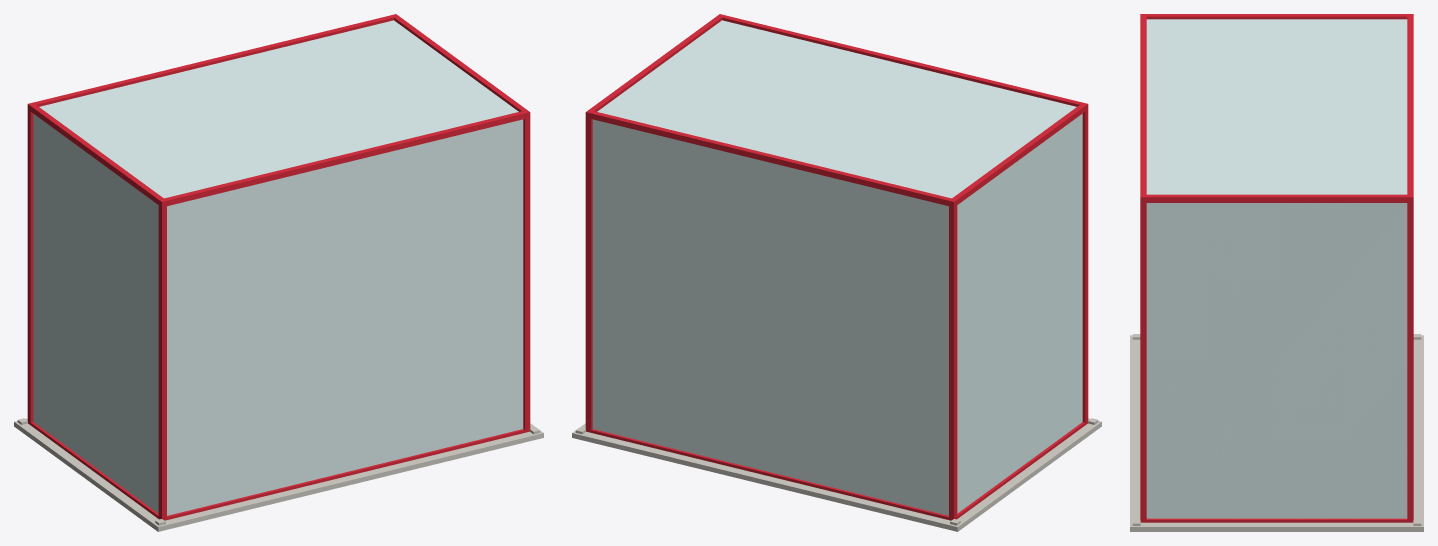
Rendered from saint-basil-s-cathedral-kreml.glb.
3 views of the same model, side by side, from view 1: azimuth 30°, elevation 25°; view 2: azimuth 150°, elevation 25°; view 3: azimuth 270°, elevation 25° (orthographic).
Bounding box in the file's own units: 0.51 × 0.4095 × 0.33.
